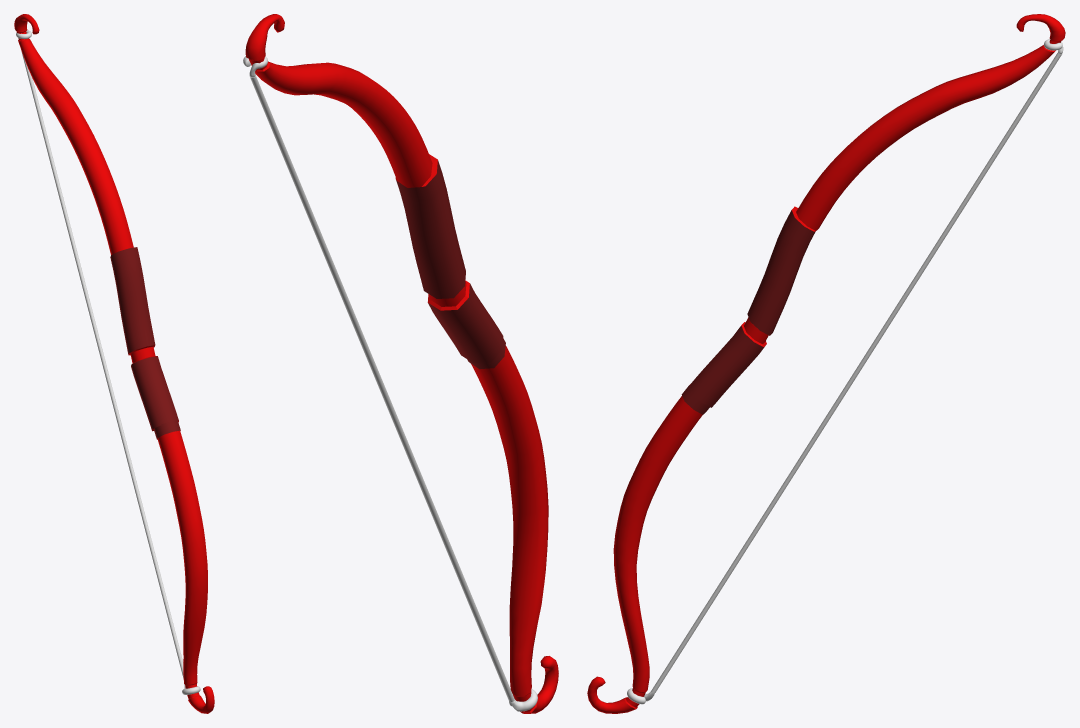
File: arco.fbx
3 renders of one model, left to right at view 1: azimuth 30°, elevation 25°; view 2: azimuth 150°, elevation 25°; view 3: azimuth 270°, elevation 25°, orthographic. The views are drawn at different scales.
Visible parts, largest first — view 1: pCube1, pCylinder1; view 2: pCube1, pCylinder1; view 3: pCube1, pCylinder1.
Part boxes in pixels (x1,y1,x2,y2): pCube1: (14,14,214,713); pCylinder1: (21,51,183,678); pCube1: (245,14,558,713); pCylinder1: (249,75,514,701); pCube1: (587,14,1065,713); pCylinder1: (651,52,1062,693).
Size of the model in its own units: 0.2602 by 5.54 by 3.44.
